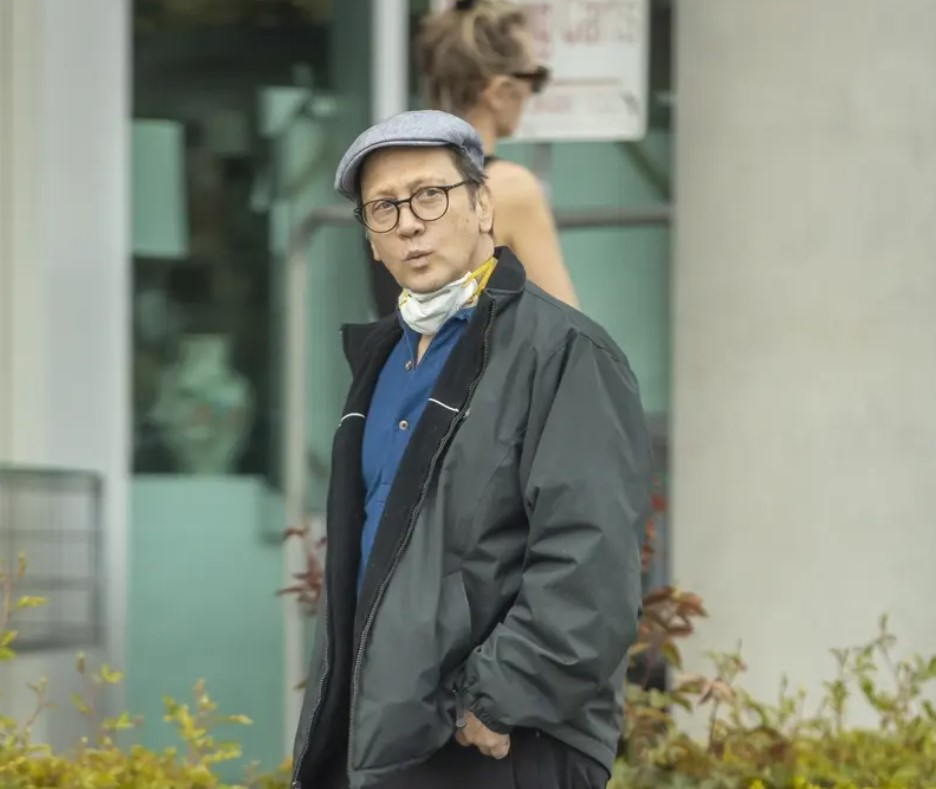face_no_mask: (333, 104, 512, 339)
